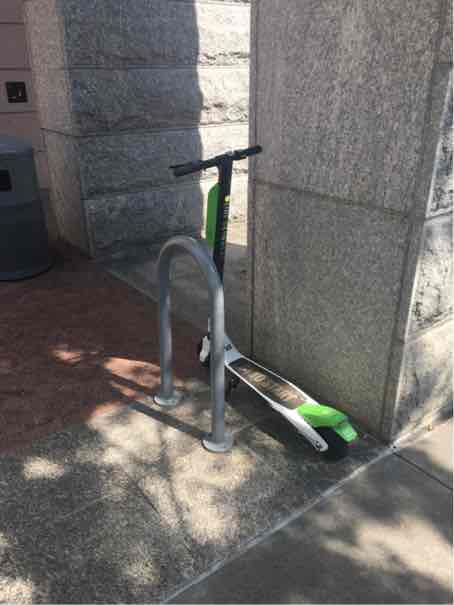scooter: (176, 140, 372, 464)
